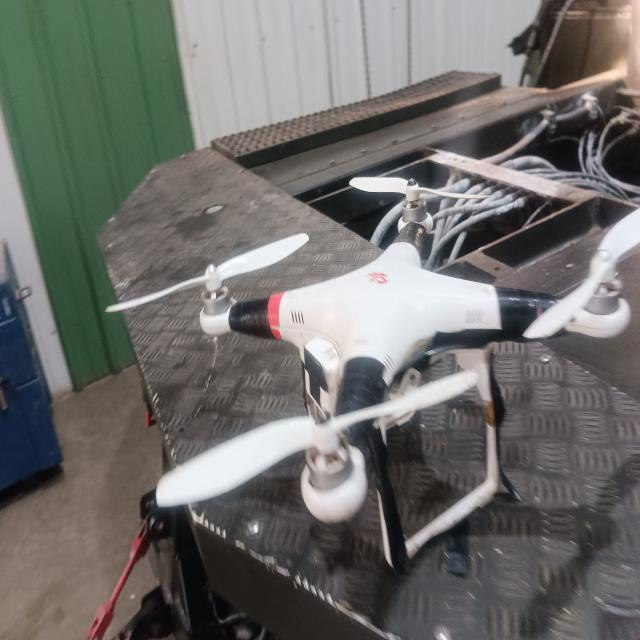drone: (83, 147, 640, 560)
